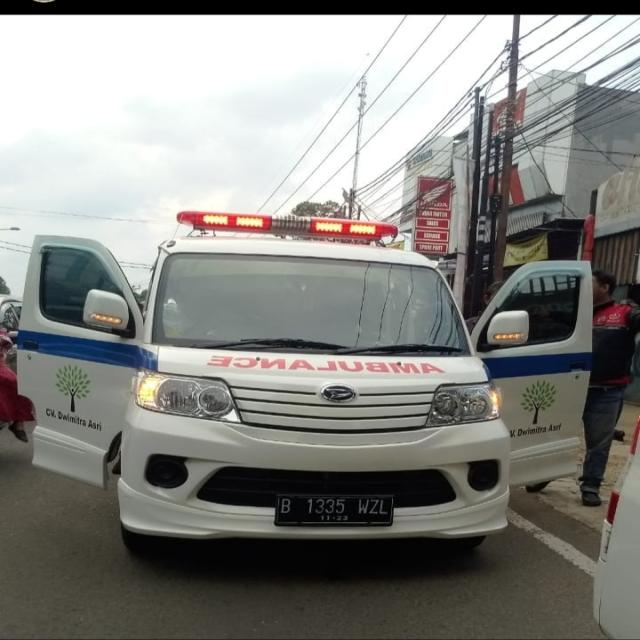emergency-vehicle: (22, 206, 590, 560)
